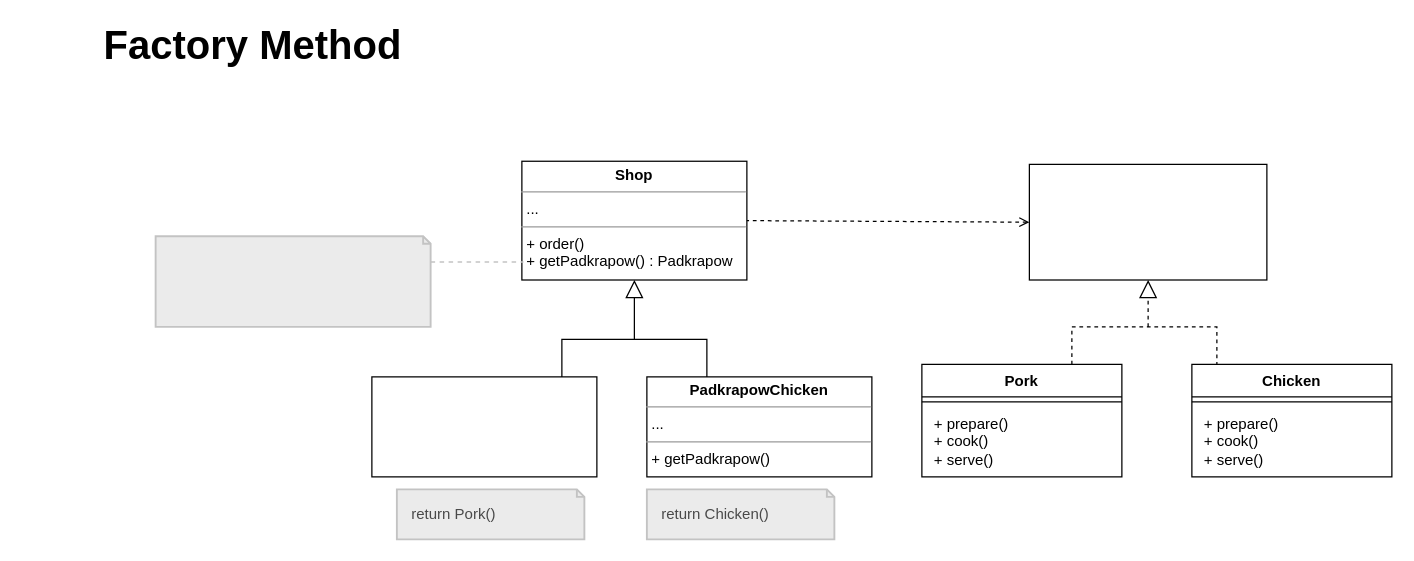
The diagram is 1414 pixels wide and 561 high, and some of its shapes have lost their labels. The shapes that lost their labels are listed below. From the top down, each one's centre as x and y in pixels, then its label:
(x=1147, y=221): <<Interface>> Padkrapow + prepare() + cook() + serve()
(x=292, y=281): F = Shop.getFood() F.prepare() F.cook() F.serve()
(x=484, y=426): PadkrapowPork ... + getPadkrapow()
